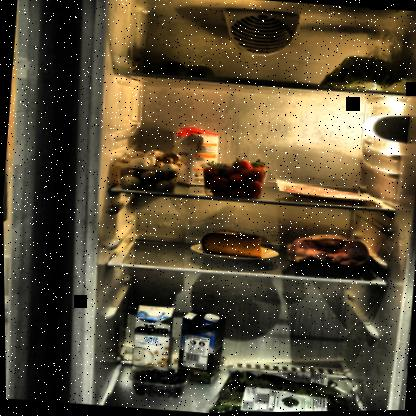blueberries: (131, 363, 189, 399)
cheese: (200, 227, 267, 264)
chicken: (284, 229, 380, 281)
green_beans: (315, 49, 415, 98)
lime: (140, 58, 216, 85)
milk: (173, 308, 229, 388), (125, 301, 178, 375)
mushrooms: (117, 146, 185, 194)
spinach: (203, 357, 386, 413)
strawberries: (197, 156, 268, 203)
